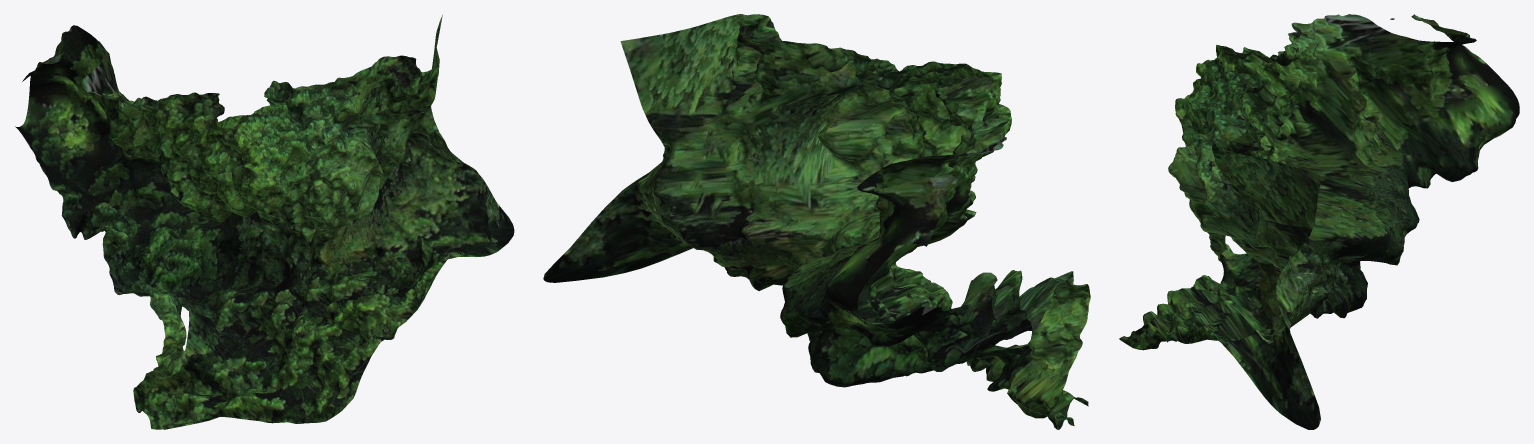
File: Tile_+024_+007.fbx
The picture shows the model from 3 angles, left to right: view 1: azimuth 30°, elevation 25°; view 2: azimuth 150°, elevation 25°; view 3: azimuth 270°, elevation 25°; orthographic projection. The views are drawn at different scales.
Parts seen in each view (by area): view 1: DefaultName; view 2: DefaultName; view 3: DefaultName.
Part boxes in pixels (x1,y1,x2,y2): DefaultName: (15, 15, 514, 429); DefaultName: (543, 14, 1090, 429); DefaultName: (1119, 14, 1519, 429).
Size of the model in its own units: 15.07 by 10.2 by 13.12.
